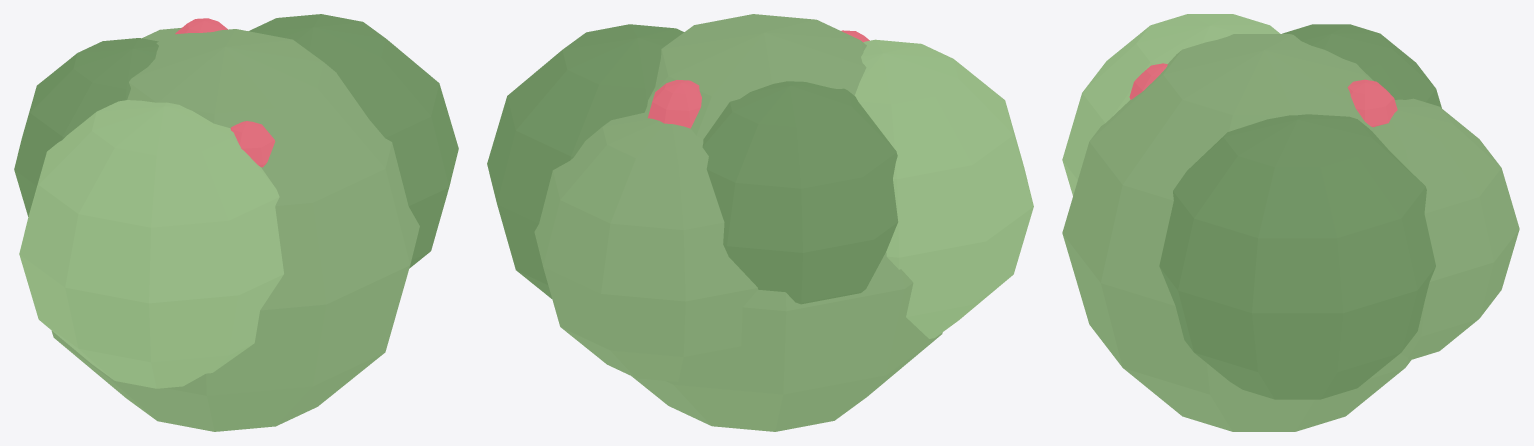
Rendered from berry_bush.glb.
The picture shows the model from 3 angles, left to right: view 1: azimuth 30°, elevation 25°; view 2: azimuth 150°, elevation 25°; view 3: azimuth 270°, elevation 25°; orthographic projection. The views are drawn at different scales.
Visible parts, largest first — view 1: bush_with_berry; view 2: bush_with_berry; view 3: bush_with_berry.
Boxes of the visible parts, x1=… form: bush_with_berry: x1=14, y1=14, x2=458, y2=431; bush_with_berry: x1=487, y1=14, x2=1033, y2=431; bush_with_berry: x1=1062, y1=14, x2=1519, y2=431.
Size of the model in its own units: 0.7485 by 0.6 by 0.68.
